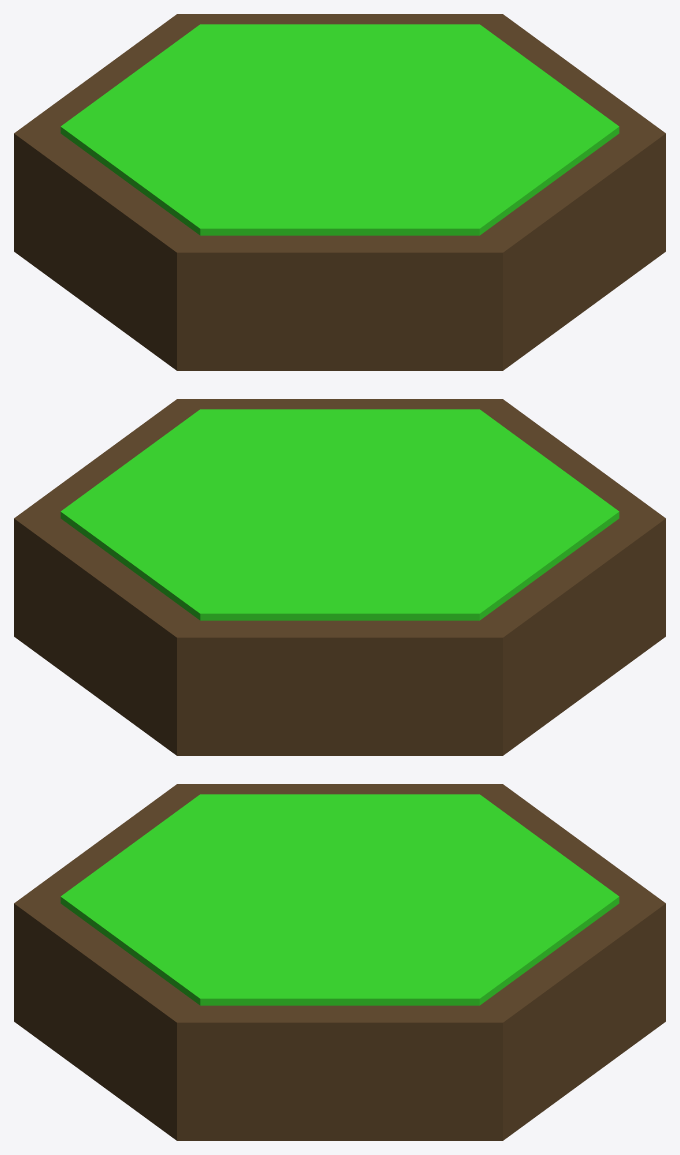
File: HexTile.fbx
The picture shows the model from 3 angles, top to bottom: view 1: azimuth 30°, elevation 25°; view 2: azimuth 150°, elevation 25°; view 3: azimuth 270°, elevation 25°; orthographic projection.
Parts seen in each view (by area): view 1: Cylinder, Cylinder.001; view 2: Cylinder, Cylinder.001; view 3: Cylinder, Cylinder.001.
Boxes of the visible parts, box(x1,y1,x2,y2) form: Cylinder: box(14, 14, 665, 370); Cylinder.001: box(60, 24, 619, 235); Cylinder: box(14, 399, 665, 755); Cylinder.001: box(60, 409, 619, 620); Cylinder: box(14, 784, 665, 1140); Cylinder.001: box(60, 794, 619, 1005).
Size of the model in its own units: 200 by 173 by 42.33.
